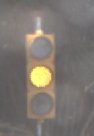Yellow: (14, 18, 62, 123)
